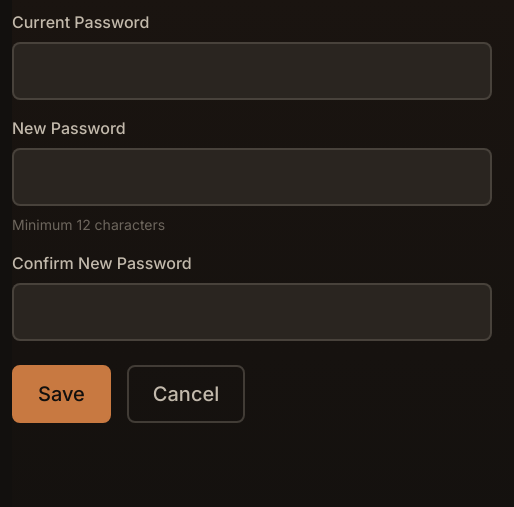
Test: ChangePasswordForm validation › shows error when new password is too short
This screenshot has width=514, height=507.
Type "oldpassword" into the password field labelled "Current Password" at (252, 71), box [12,42,492,100]
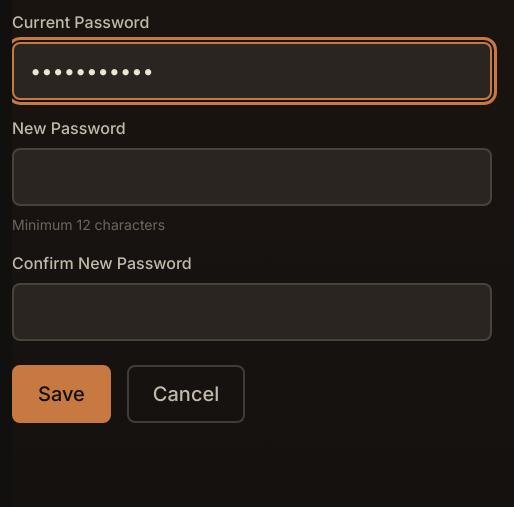
Type "short" into the password field labelled "New Password" at (252, 177), box [12,148,492,206]
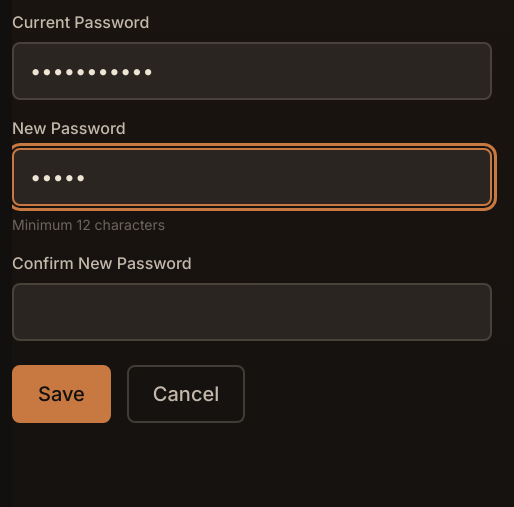
Type "short" into the password field labelled "Confirm New Password" at (252, 312), box [12,283,492,341]
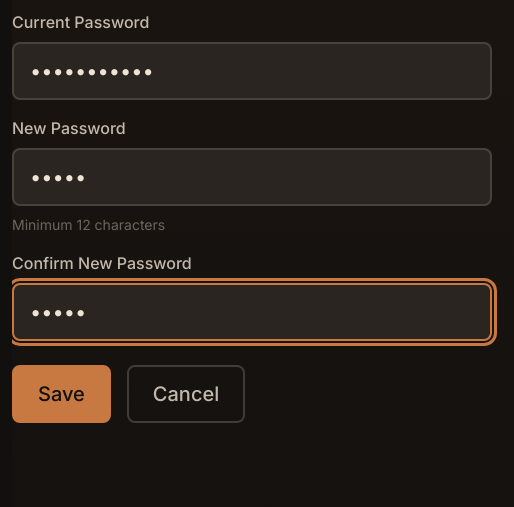
Click the button "Save" at (61, 394), box [12,365,111,423]
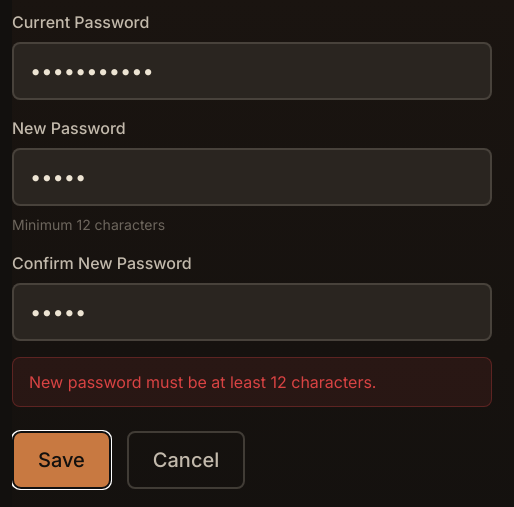
Now the text "New password must be at least 12 characters." is shown, box [12,357,492,407]
